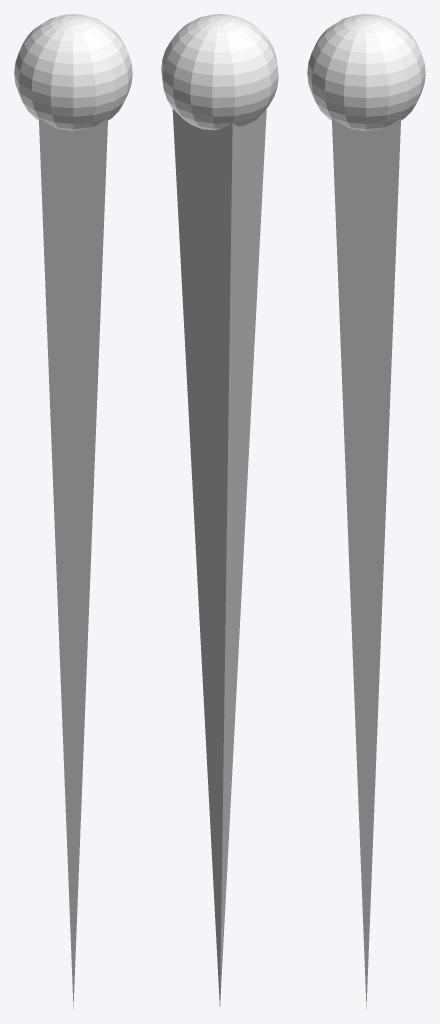
File: mouseShape.obj
3 views of the same model, side by side, from view 1: azimuth 90°, elevation 25°; view 2: azimuth 150°, elevation 25°; view 3: azimuth 270°, elevation 25° (orthographic).
Parts seen in each view (by area): view 1: Cube_Cube.001, Mouse_Sphere; view 2: Cube_Cube.001, Mouse_Sphere; view 3: Cube_Cube.001, Mouse_Sphere.
Boxes of the visible parts, bbox=[...] form: Cube_Cube.001: bbox=[39, 118, 107, 1009]; Mouse_Sphere: bbox=[14, 14, 132, 131]; Cube_Cube.001: bbox=[172, 109, 266, 1006]; Mouse_Sphere: bbox=[161, 14, 278, 130]; Cube_Cube.001: bbox=[332, 118, 400, 1009]; Mouse_Sphere: bbox=[307, 14, 425, 131].
Size of the model in its own units: 2.41 by 22.24 by 2.41.
Materials: 2 (1 with a texture image).
